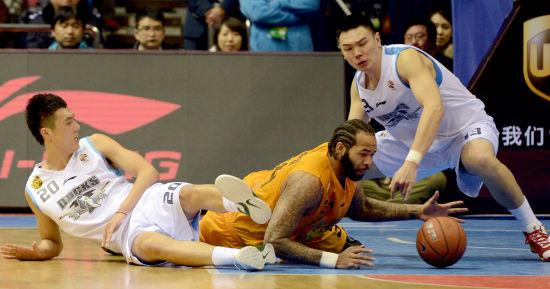10+: (1, 1, 549, 276)
down: (1, 89, 274, 278), (188, 116, 382, 272)
